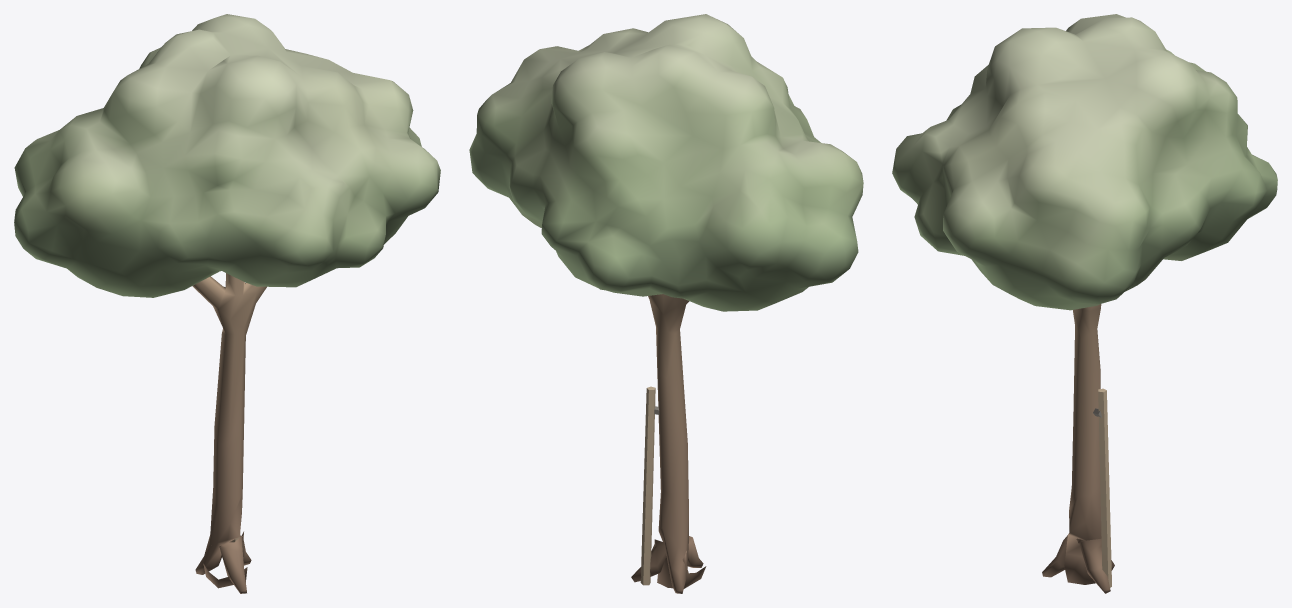
Rendered from tree-small.glb.
The picture shows the model from 3 angles, left to right: view 1: azimuth 30°, elevation 25°; view 2: azimuth 150°, elevation 25°; view 3: azimuth 270°, elevation 25°; orthographic projection. The views are drawn at different scales.
Parts seen in each view (by area): view 1: tree-small; view 2: tree-small; view 3: tree-small.
Part boxes in pixels (box(x1,y1,x2,y2)): tree-small: box(14, 14, 440, 593); tree-small: box(469, 14, 863, 593); tree-small: box(892, 14, 1277, 593).
Size of the model in its own units: 1.9 by 2.53 by 1.61.
